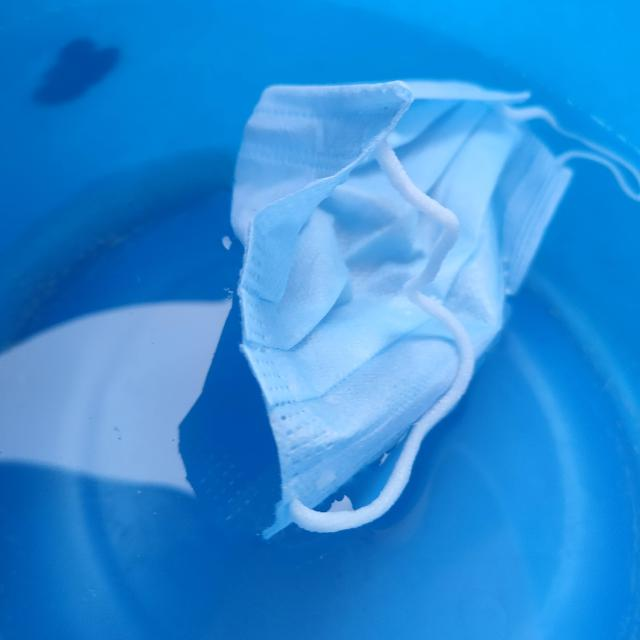mask: (193, 50, 635, 544)
